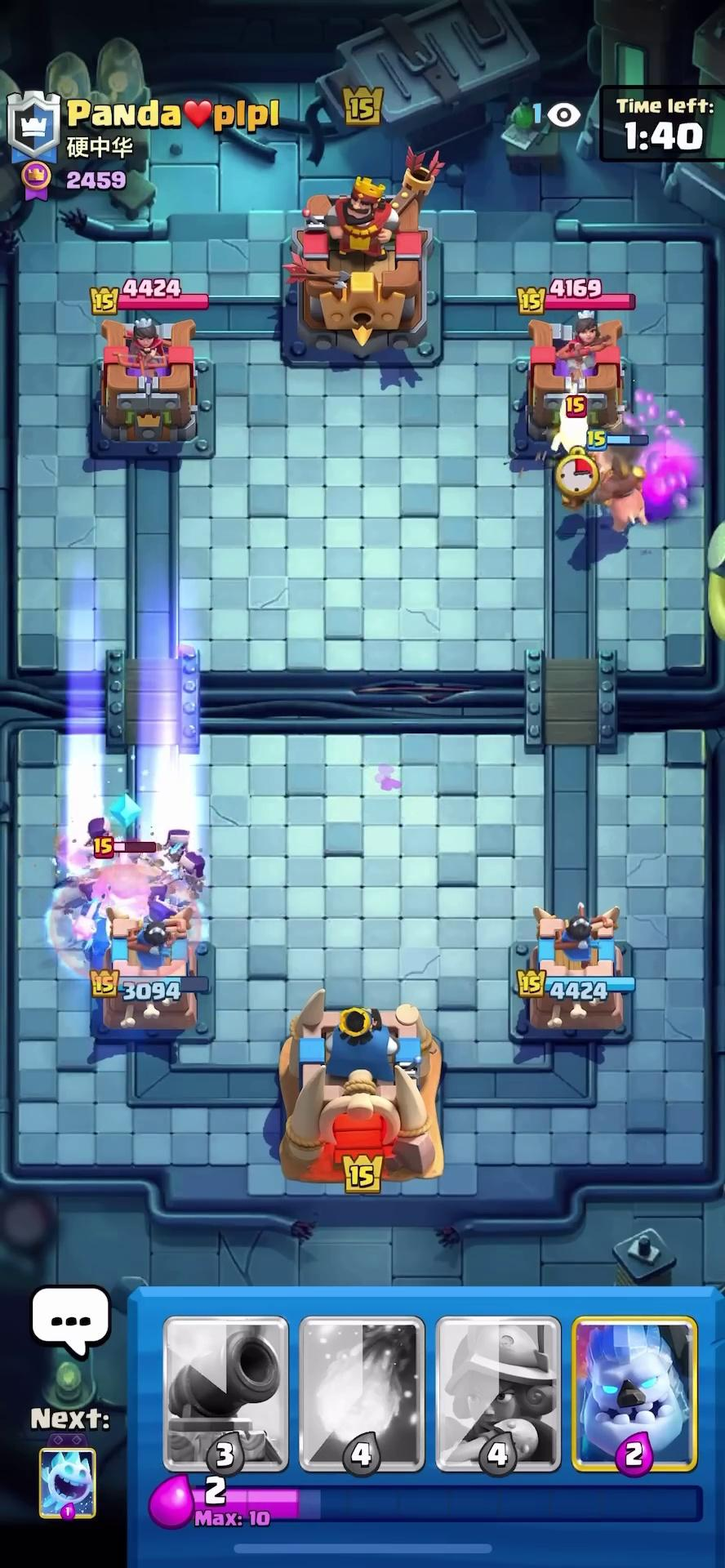evo_skeletons: (153, 815, 220, 943), (78, 808, 120, 845)
hog_rider: (576, 427, 667, 553)
